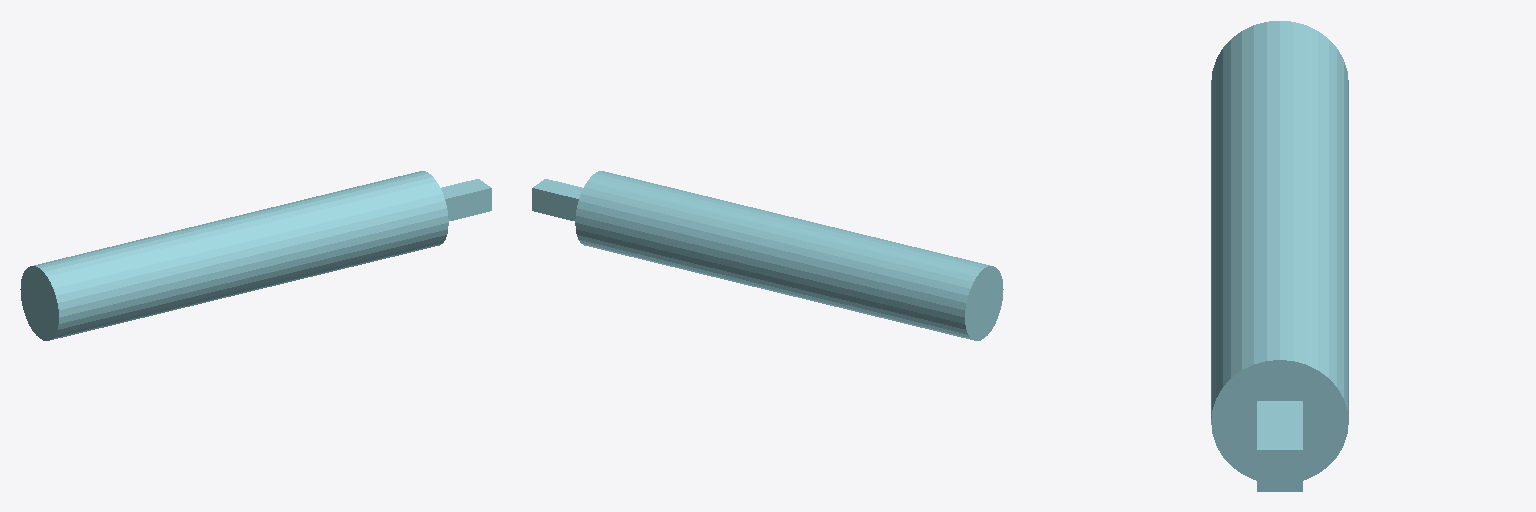
robot.urdf — thick_marker:
<?xml version="1.0"?>
<robot name="thick_marker">

  <link name="thick_marker">
    <!-- Handle -->
    <visual>
      <origin xyz="0 0 0" rpy="0 1.5707963267948966 0"/>
      <geometry>
        <cylinder length="0.14" radius="0.012"/>
      </geometry>
      <material name="material">
        <color rgba="0.639 0.847 0.882 1.0"/>
      </material>
    </visual>
    <collision>
      <origin xyz="0 0 0" rpy="0 1.5707963267948966 0"/>
      <geometry>
        <cylinder length="0.14" radius="0.012"/>
      </geometry>
    </collision>

    <!-- Head -->
    <visual>
      <origin xyz="0.08 0 0" rpy="0 0 0"/>
      <geometry>
        <box size="0.02 0.008 0.008"/>
      </geometry>
      <material name="material">
        <color rgba="0.639 0.847 0.882 1.0"/>
      </material>
    </visual>
    <collision>
      <origin xyz="0.08 0 0" rpy="0 0 0"/>
      <geometry>
        <box size="0.02 0.008 0.008"/>
      </geometry>
    </collision>

    <inertial>
      <density value="400.0"/>
    </inertial>
  </link>

</robot>

--- Facts derived from the render (not from the file) ---
3 views of the same robot in one strip: view 1: azimuth 30°, elevation 25°; view 2: azimuth 150°, elevation 25°; view 3: azimuth 270°, elevation 25° (orthographic).
Robot: thick_marker — 1 links, 0 joints (none); root link thick_marker; default pose: every joint at zero.
Links seen in each view (by area): view 1: thick_marker; view 2: thick_marker; view 3: thick_marker.
Link boxes in pixels (left/top/right/bottom): thick_marker: left=20, top=171, right=491, bottom=340; thick_marker: left=532, top=171, right=1003, bottom=340; thick_marker: left=1211, top=21, right=1348, bottom=491.
Bounding box of the posed robot: 0.16 × 0.024 × 0.024 m (x, y, z).
Geometry: primitives only (box / cylinder / sphere), no mesh files.
